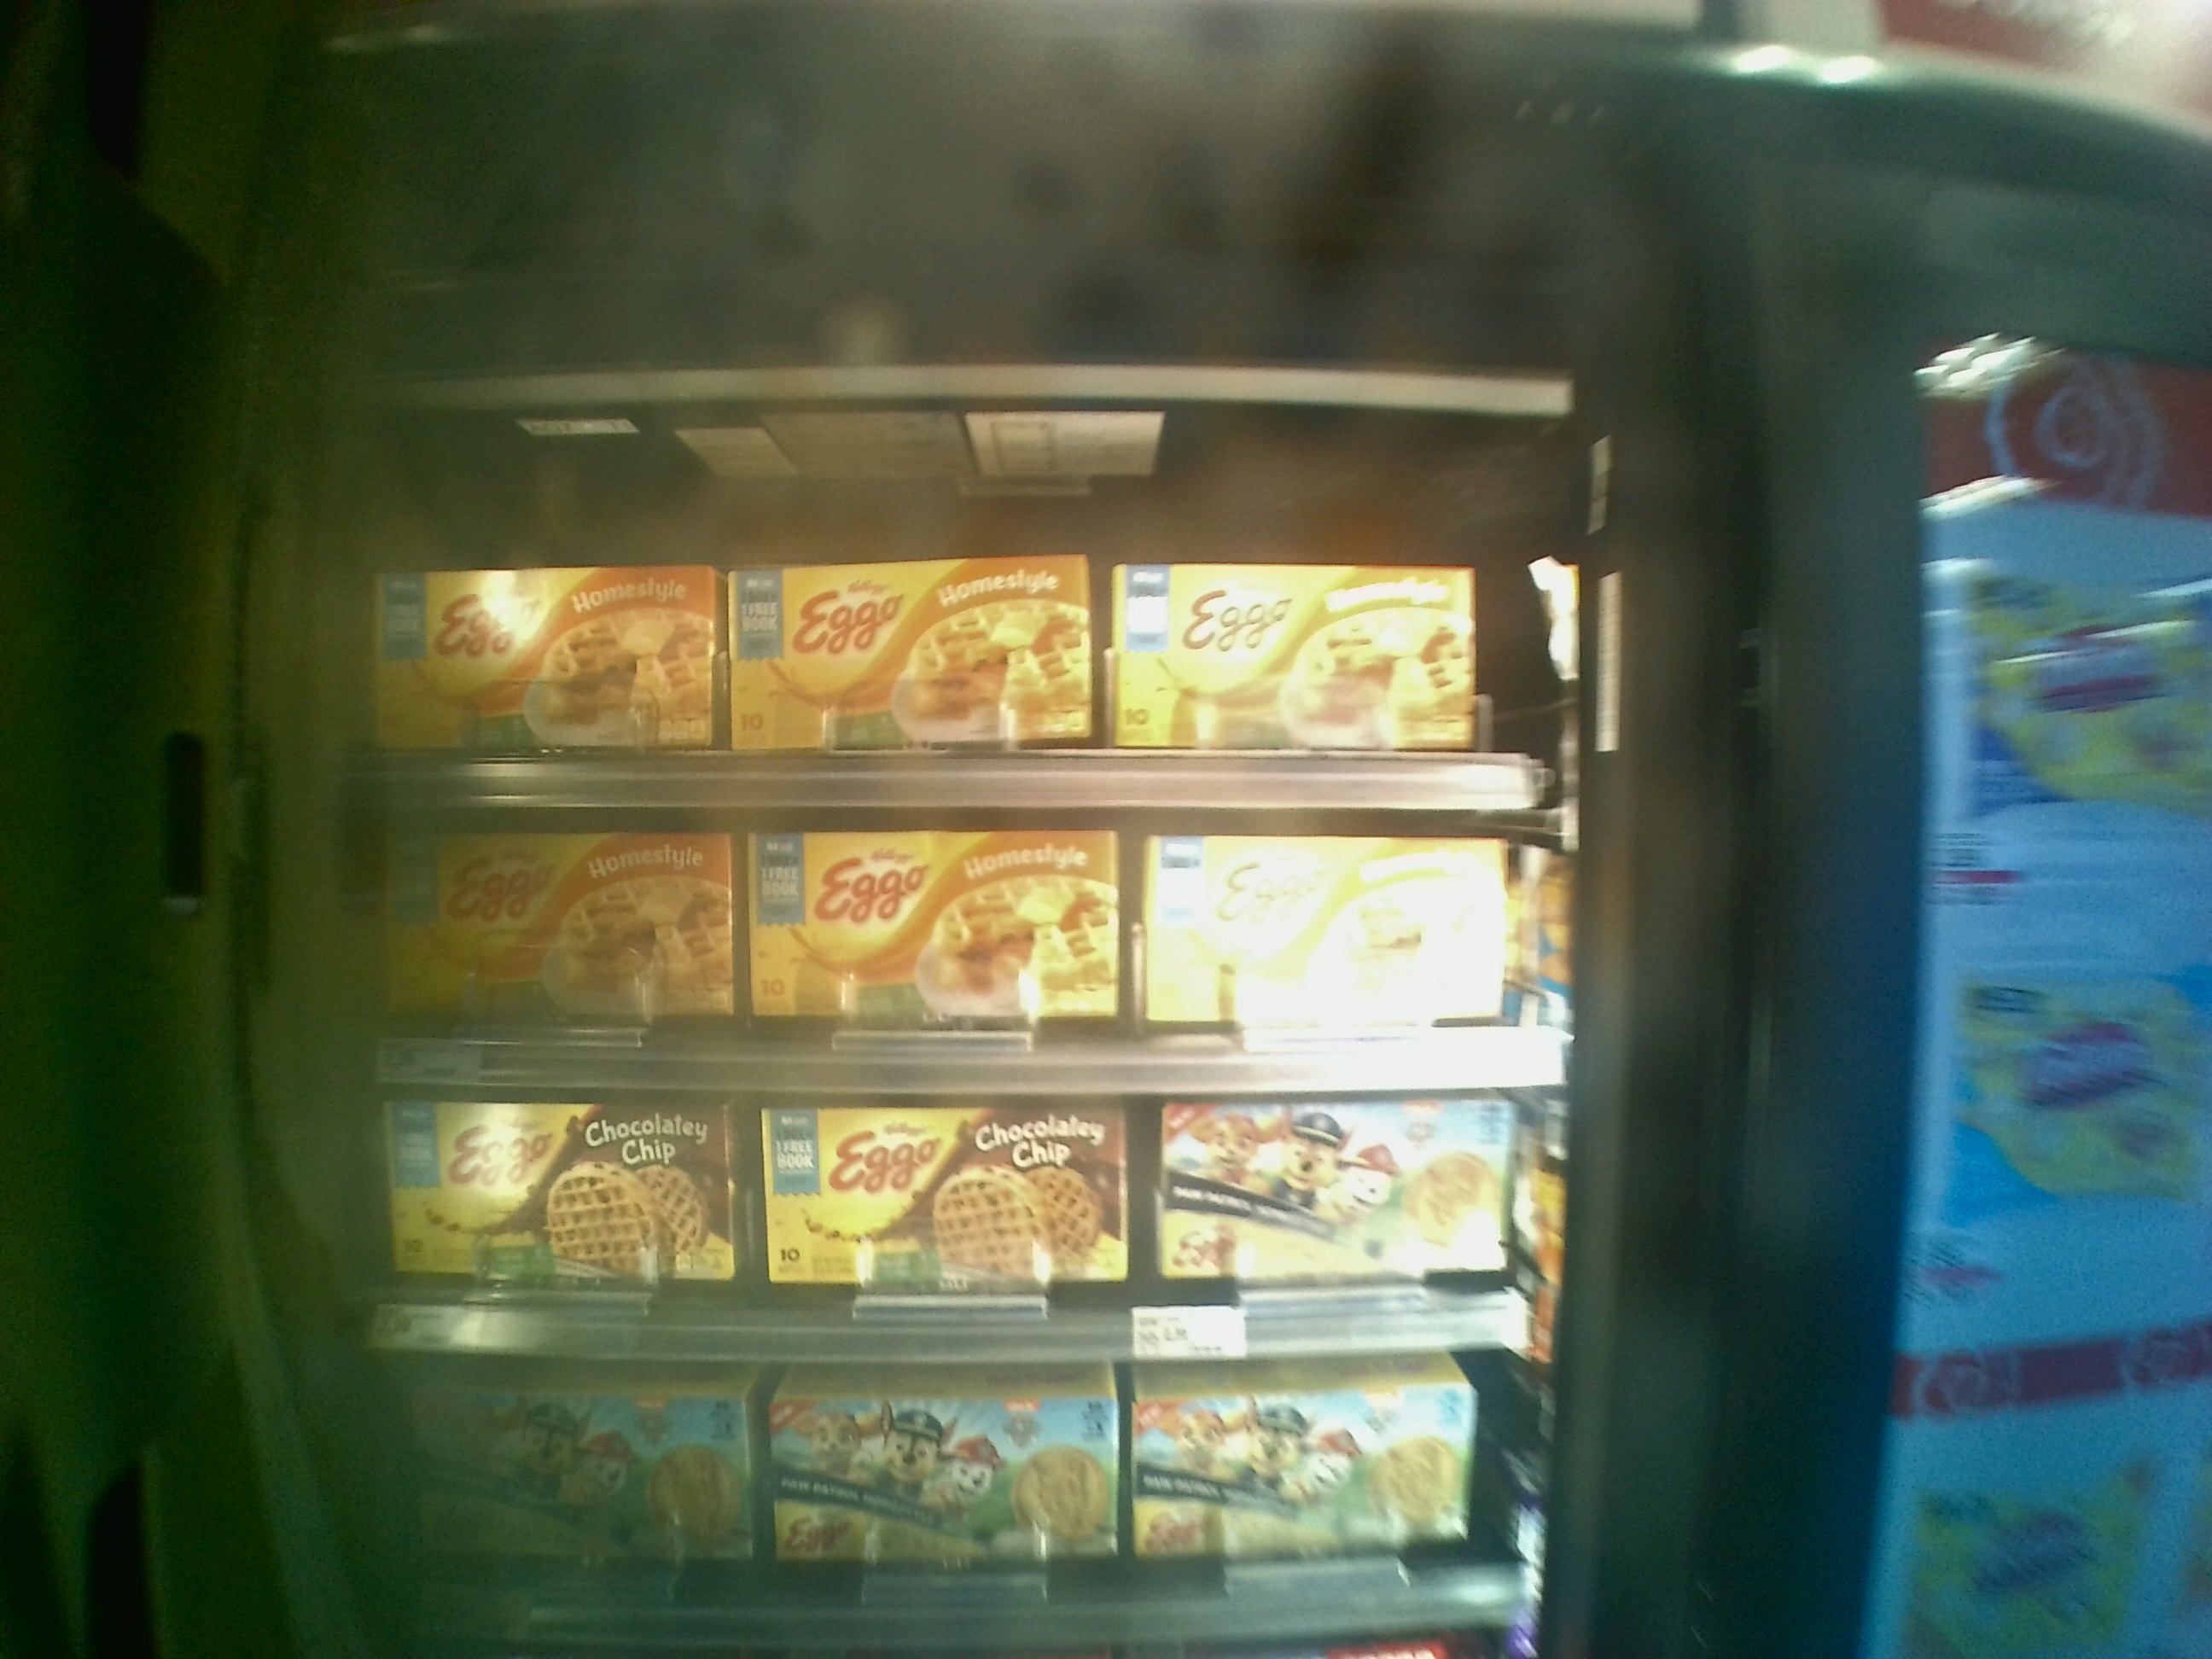shelf: (369, 352, 1550, 819)
